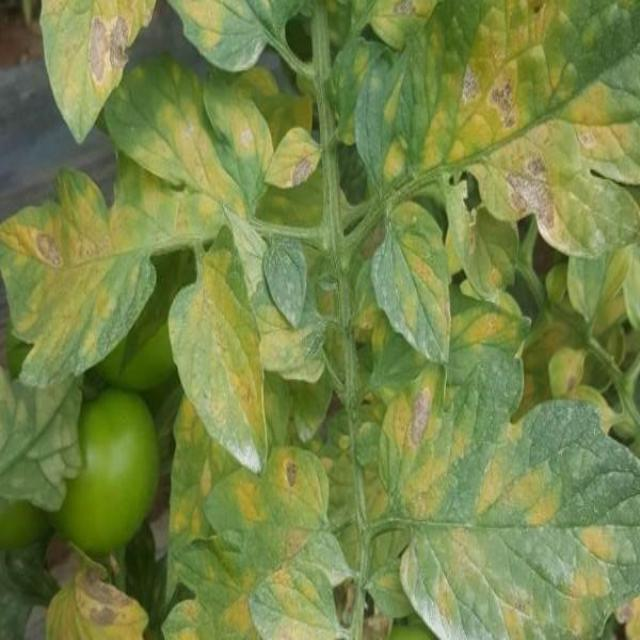Leaf_Mold: (423, 1, 640, 252), (1, 170, 170, 386), (174, 260, 267, 471), (37, 1, 156, 144), (168, 90, 272, 246), (380, 373, 468, 519), (472, 415, 562, 528), (43, 543, 147, 640), (170, 542, 250, 640), (393, 214, 449, 346), (251, 562, 336, 640), (269, 451, 326, 564), (433, 525, 484, 637), (447, 293, 532, 360), (261, 309, 327, 383), (168, 472, 230, 542), (260, 126, 321, 189), (564, 568, 612, 638), (490, 581, 542, 640), (368, 2, 423, 52), (231, 473, 271, 533), (179, 1, 226, 52), (545, 339, 586, 395), (574, 513, 618, 564), (617, 591, 640, 640)
